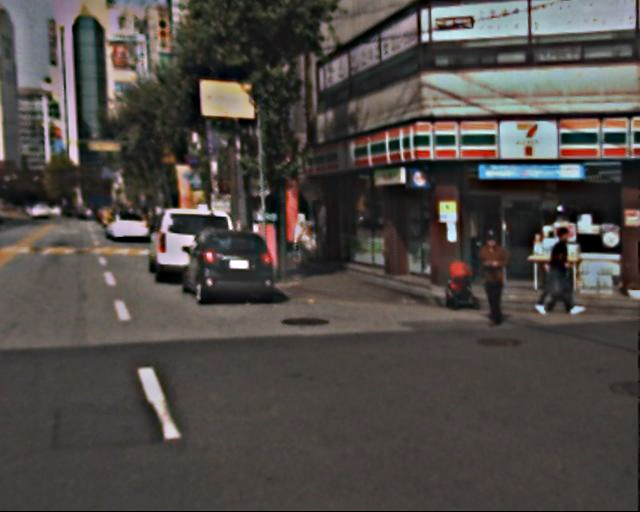person: (474, 228, 523, 327), (545, 228, 589, 318)
